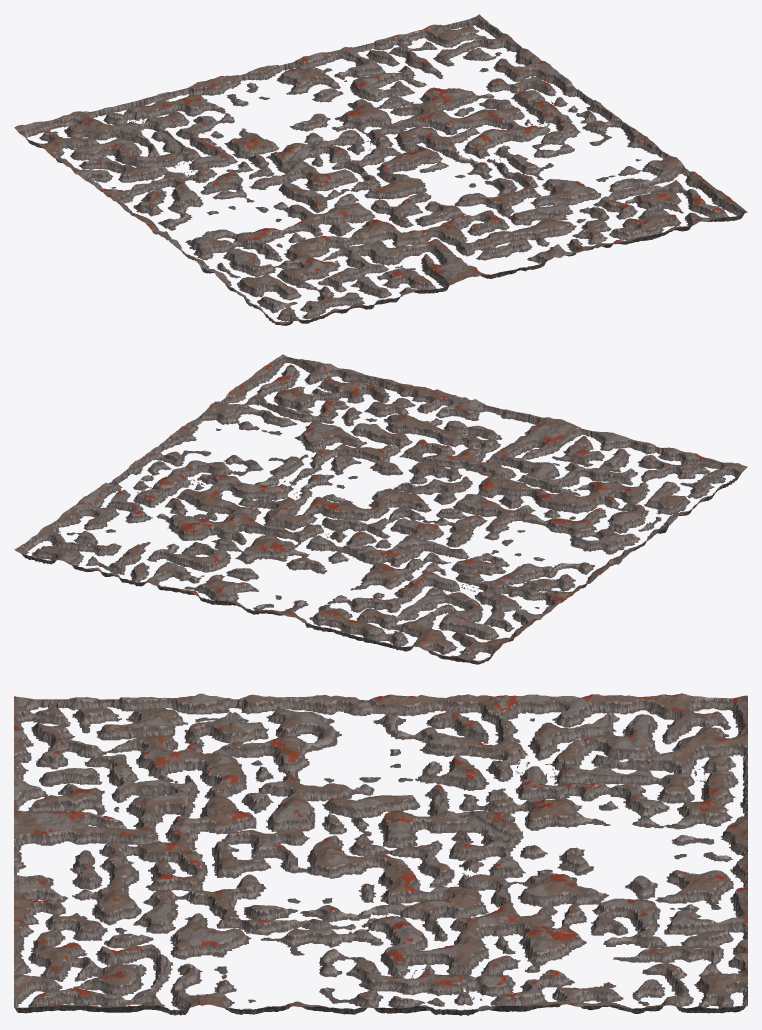
Rendered from Dungeon-3C-Relief.fbx.
3 renders of one model, top to bottom at view 1: azimuth 30°, elevation 25°; view 2: azimuth 150°, elevation 25°; view 3: azimuth 270°, elevation 25°, orthographic. The views are drawn at different scales.
Visible parts, largest first — view 1: Dungeon-3C-Relief-c77, Dungeon-3C-Relief-c22, Dungeon-3C-Relief-c75, Dungeon-3C-Relief-c17, Dungeon-3C-Relief-c07, Dungeon-3C-Relief-c54, Dungeon-3C-Relief-c27, Dungeon-3C-Relief-c44, Dungeon-3C-Relief-c31, Dungeon-3C-Relief-c71, Dungeon-3C-Relief-c41, Dungeon-3C-Relief-c64 (+49 smaller); view 2: Dungeon-3C-Relief-c31, Dungeon-3C-Relief-c20, Dungeon-3C-Relief-c44, Dungeon-3C-Relief-c60, Dungeon-3C-Relief-c70, Dungeon-3C-Relief-c16, Dungeon-3C-Relief-c55, Dungeon-3C-Relief-c77, Dungeon-3C-Relief-c23, Dungeon-3C-Relief-c71, Dungeon-3C-Relief-c00, Dungeon-3C-Relief-c27 (+51 smaller); view 3: Dungeon-3C-Relief-c16, Dungeon-3C-Relief-c02, Dungeon-3C-Relief-c06, Dungeon-3C-Relief-c01, Dungeon-3C-Relief-c34, Dungeon-3C-Relief-c07, Dungeon-3C-Relief-c04, Dungeon-3C-Relief-c54, Dungeon-3C-Relief-c31, Dungeon-3C-Relief-c05, Dungeon-3C-Relief-c64, Dungeon-3C-Relief-c32 (+52 smaller).
Part boxes in pixels (left/top/right/bottom): Dungeon-3C-Relief-c77: left=421, top=14, right=512, bottom=58; Dungeon-3C-Relief-c22: left=299, top=207, right=387, bottom=251; Dungeon-3C-Relief-c75: left=490, top=62, right=579, bottom=108; Dungeon-3C-Relief-c17: left=72, top=102, right=161, bottom=140; Dungeon-3C-Relief-c07: left=14, top=112, right=99, bottom=156; Dungeon-3C-Relief-c54: left=406, top=118, right=494, bottom=162; Dungeon-3C-Relief-c27: left=130, top=88, right=212, bottom=130; Dungeon-3C-Relief-c44: left=352, top=131, right=438, bottom=176; Dungeon-3C-Relief-c31: left=392, top=221, right=481, bottom=263; Dungeon-3C-Relief-c71: left=625, top=161, right=713, bottom=206; Dungeon-3C-Relief-c41: left=449, top=205, right=539, bottom=250; Dungeon-3C-Relief-c64: left=465, top=107, right=549, bottom=146; Dungeon-3C-Relief-c31: left=448, top=438, right=540, bottom=478; Dungeon-3C-Relief-c20: left=539, top=424, right=631, bottom=467; Dungeon-3C-Relief-c44: left=289, top=497, right=380, bottom=539; Dungeon-3C-Relief-c60: left=310, top=368, right=398, bottom=412; Dungeon-3C-Relief-c70: left=249, top=354, right=340, bottom=394; Dungeon-3C-Relief-c16: left=399, top=588, right=483, bottom=631; Dungeon-3C-Relief-c55: left=197, top=506, right=289, bottom=545; Dungeon-3C-Relief-c77: left=14, top=525, right=99, bottom=568; Dungeon-3C-Relief-c23: left=444, top=496, right=530, bottom=540; Dungeon-3C-Relief-c71: left=216, top=378, right=306, bottom=421; Dungeon-3C-Relief-c00: left=668, top=452, right=747, bottom=496; Dungeon-3C-Relief-c27: left=305, top=602, right=391, bottom=640; Dungeon-3C-Relief-c16: left=564, top=734, right=657, bottom=784; Dungeon-3C-Relief-c02: left=196, top=693, right=290, bottom=744; Dungeon-3C-Relief-c06: left=564, top=694, right=657, bottom=745; Dungeon-3C-Relief-c01: left=104, top=695, right=197, bottom=744; Dungeon-3C-Relief-c34: left=380, top=811, right=473, bottom=860; Dungeon-3C-Relief-c07: left=654, top=693, right=747, bottom=744; Dungeon-3C-Relief-c04: left=380, top=694, right=474, bottom=743; Dungeon-3C-Relief-c54: left=380, top=890, right=473, bottom=938; Dungeon-3C-Relief-c31: left=104, top=812, right=197, bottom=861; Dungeon-3C-Relief-c05: left=471, top=694, right=564, bottom=744; Dungeon-3C-Relief-c64: left=380, top=928, right=473, bottom=977; Dungeon-3C-Relief-c32: left=197, top=810, right=290, bottom=861.
Bounding box in the file's own units: 132 × 2.85 × 132.
